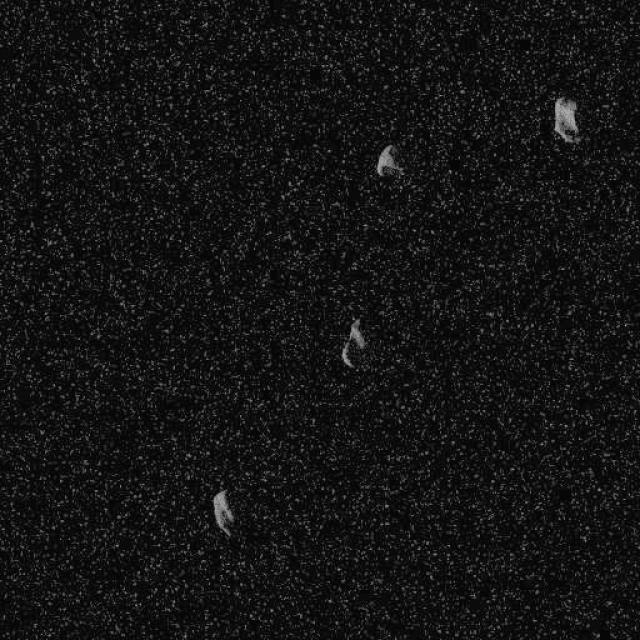D2: (340, 316, 366, 369), (552, 95, 580, 143), (211, 488, 235, 536), (375, 142, 404, 178)
